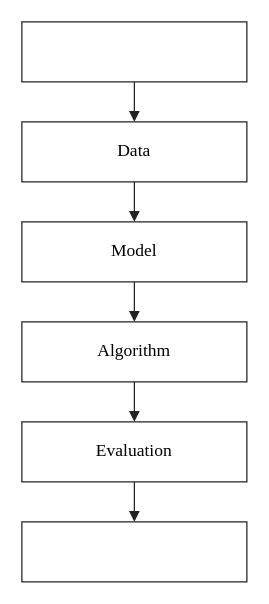
Image size: 269x604. Some labels were removed from this diagram. Each missing label, with the centre of its shape:
Problem: point (134, 51)
Solution: point (134, 551)
